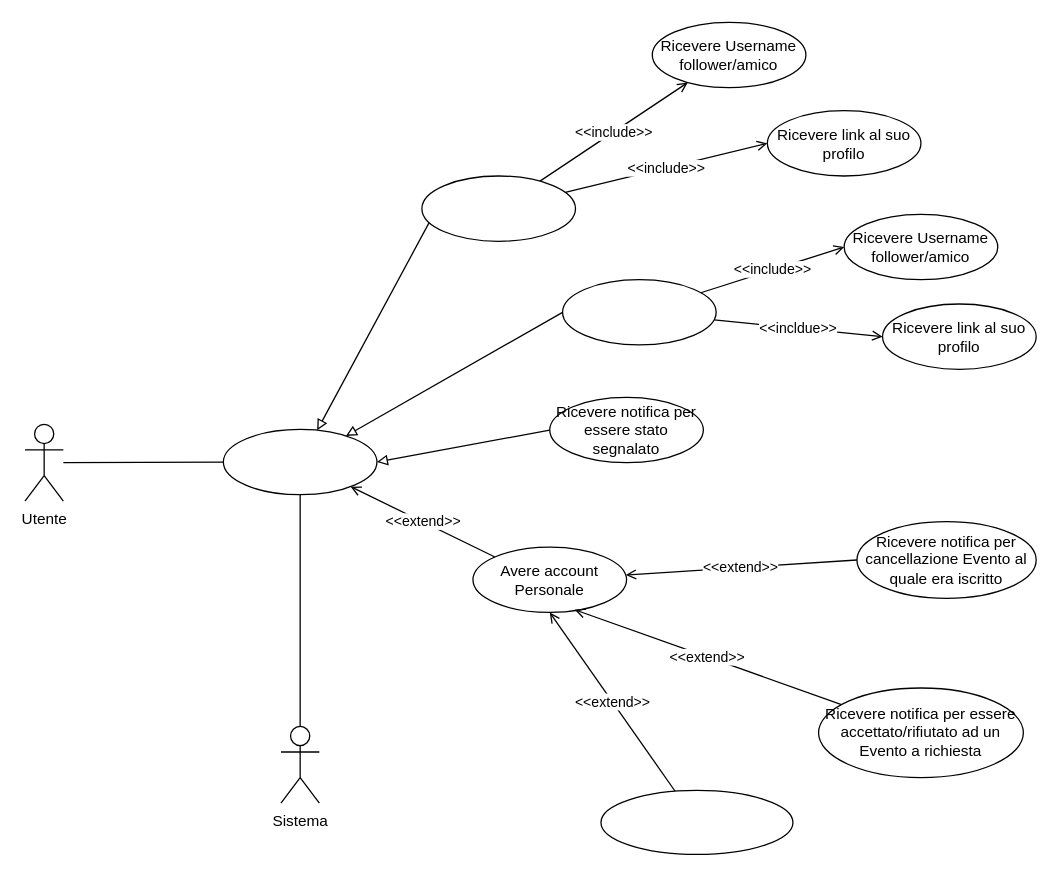
The diagram is 1059 pixels wide and 877 high, and some of its shapes have lost their labels. The centre of each missing label's shape, as x and y in pixels:
"Ricevere notifica da" goes at [299,461].
"Ricevere notifica per nuovo follower/amico" goes at [498,208].
"Ricevere notifica per nuovo iscritto a un proprio Evento" goes at [638,311].
"Ricevere notifica per richiesta di rating" goes at [696,821].
